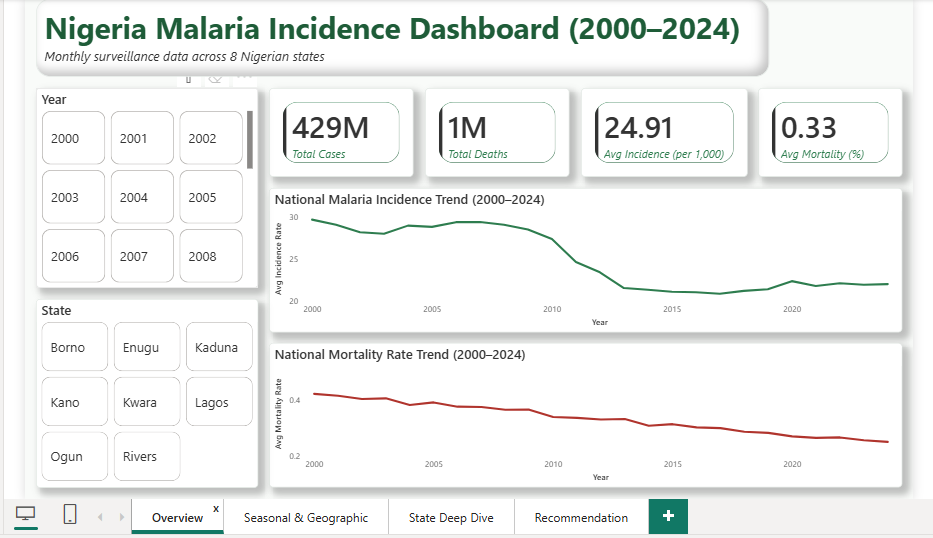

Layout of this report page (visuals, bound fields, positions):
{"tool":"powerbi","page":{"name":"Overview","canvas":[1280,720],"ordinal":0},"visuals":[{"type":"cardVisual","fields":{"Data":["malaria_project malaria_data.Total Cases"]},"box":[352,128,208,128],"z":0},{"type":"cardVisual","fields":{"Data":["malaria_project malaria_data.Total Deaths"]},"box":[576,128,208,128],"z":1000},{"type":"cardVisual","fields":{"Data":["malaria_project malaria_data.Avg Mortality Rate"]},"box":[1056,128,208,128],"z":2000},{"type":"cardVisual","fields":{"Data":["malaria_project malaria_data.Avg Incidence Rate"]},"box":[800,128,240,128],"z":3000},{"type":"lineChart","title":"National Malaria Incidence Trend (2000–2024)","fields":{"Category":["malaria_project malaria_data.Year"],"Y":["malaria_project malaria_data.Avg Incidence Rate"]},"box":[352,272,912,208],"z":4000},{"type":"lineChart","title":"\tNational Mortality Rate Trend (2000–2024)","fields":{"Category":["malaria_project malaria_data.Year"],"Y":["malaria_project malaria_data.Avg Mortality Rate"]},"box":[352,496,912,208],"z":5000},{"type":"advancedSlicerVisual","fields":{"Values":["malaria_project malaria_data.Year"]},"box":[16,128,320,288],"z":6000},{"type":"advancedSlicerVisual","fields":{"Values":["malaria_project malaria_data.State"]},"box":[16,432,320,272],"z":7000},{"type":"textbox","box":[16,0,1056,112],"z":8000}]}

Visuals, with their boxes on the page's 1280x720 design canvas (x1, y1, x2, y2). These are canvas units, not pixel positions in the 933x538 screenshot, which may show the page scaled, cropped or inside an application window:
cardVisual - malaria_project malaria_data.Total Cases: (352, 128, 560, 256)
cardVisual - malaria_project malaria_data.Total Deaths: (576, 128, 784, 256)
cardVisual - malaria_project malaria_data.Avg Mortality Rate: (1056, 128, 1264, 256)
cardVisual - malaria_project malaria_data.Avg Incidence Rate: (800, 128, 1040, 256)
"National Malaria Incidence Trend (2000–2024)" lineChart: (352, 272, 1264, 480)
"	National Mortality Rate Trend (2000–2024)" lineChart: (352, 496, 1264, 704)
advancedSlicerVisual - malaria_project malaria_data.Year: (16, 128, 336, 416)
advancedSlicerVisual - malaria_project malaria_data.State: (16, 432, 336, 704)
textbox: (16, 0, 1072, 112)
